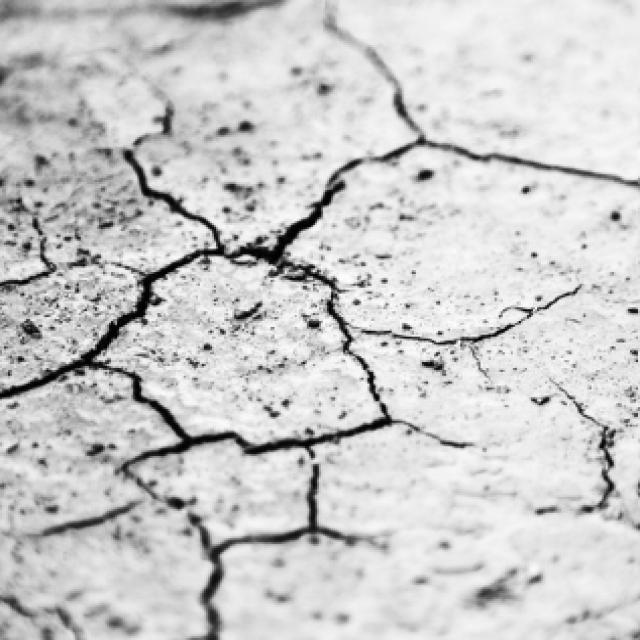network cracks: (0, 0, 639, 639), (547, 376, 620, 514)
